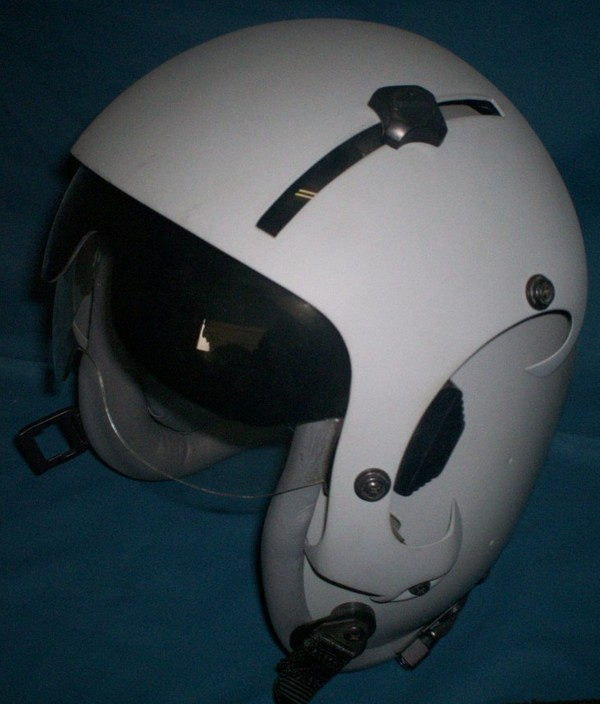helmet: (85, 13, 588, 376)
